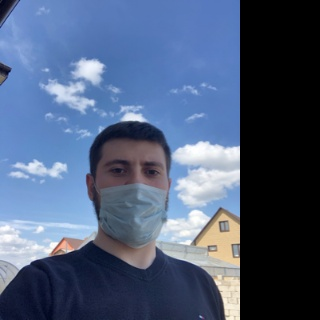with_mask: (96, 153, 169, 249)
